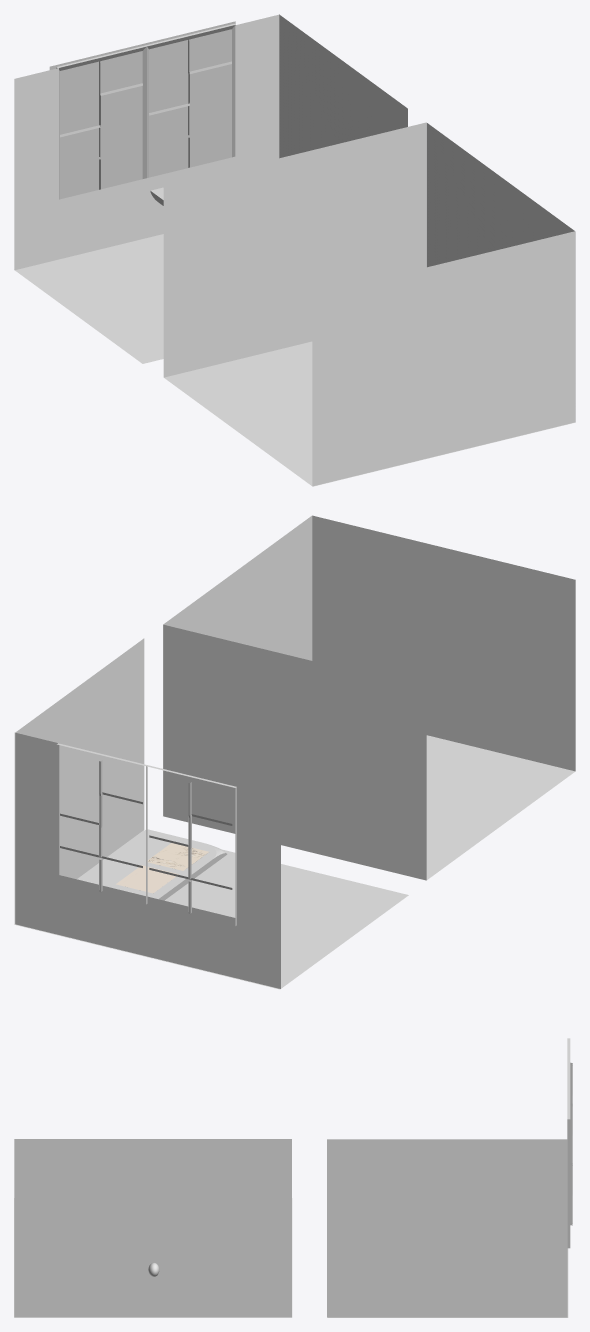
Rendered from Atelier.glb.
3 views of the same model, one above another, from view 1: azimuth 30°, elevation 25°; view 2: azimuth 150°, elevation 25°; view 3: azimuth 270°, elevation 25° (orthographic). The views are drawn at different scales.
Parts seen in each view (by area): view 1: wall.006, wall.005, back-view, floor, wall, floor.001, wall.003, wall.002, wall.001, wall.004, window, window.001; view 2: wall.005, wall.006, wall.003, wall, floor, floor.001, wall.001, wall.004, wall.002, desk, window.001, window (+2 smaller); view 3: wall, wall.003, window.
Boxes of the visible parts, x1,y1,x2,y2 form: wall.006: (312,231,574,486); wall.005: (163,122,426,377); back-view: (49,21,235,199); floor: (164,341,575,486); wall: (426,123,575,421); floor.001: (15,234,163,363); wall.003: (279,14,407,158); wall.002: (14,68,58,270); wall.001: (59,156,235,259); wall.004: (235,14,279,168); window: (145,23,235,177); window.001: (56,45,146,199); wall.005: (163,624,426,880); wall.006: (312,515,575,771); wall.003: (14,638,144,924); wall: (163,515,312,815); floor: (163,735,575,880); floor.001: (14,830,408,989); wall.001: (59,875,236,977); wall.004: (15,732,59,934); wall.002: (236,786,280,988); desk: (78,829,227,900); window.001: (146,765,236,925); window: (57,743,147,904); wall: (14,1139,291,1317); wall.003: (327,1139,567,1317); window: (567,1079,572,1248).
Size of the model in its own units: 6.4 by 4.11 by 11.71.
11 materials, 2 textured.
